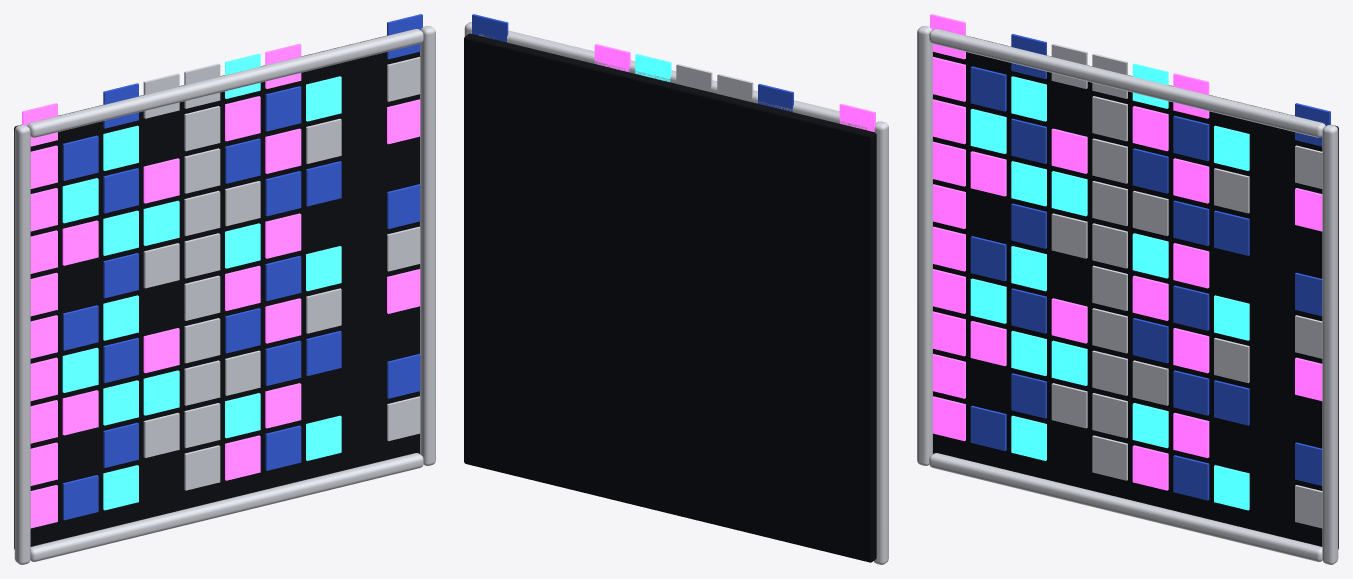
Rendered from led_wall_panel_2m.glb.
3 views of the same model, side by side, from view 1: azimuth 30°, elevation 25°; view 2: azimuth 150°, elevation 25°; view 3: azimuth 330°, elevation 25° (orthographic).
Visible parts, largest first — view 1: led_wall_panel_2m; view 2: led_wall_panel_2m; view 3: led_wall_panel_2m.
Part boxes in pixels (left/top/right/bottom): led_wall_panel_2m: left=14, top=14, right=435, bottom=564; led_wall_panel_2m: left=464, top=14, right=888, bottom=564; led_wall_panel_2m: left=917, top=14, right=1338, bottom=564.
Bounding box in the file's own units: 2.06 × 2.12 × 0.11.
